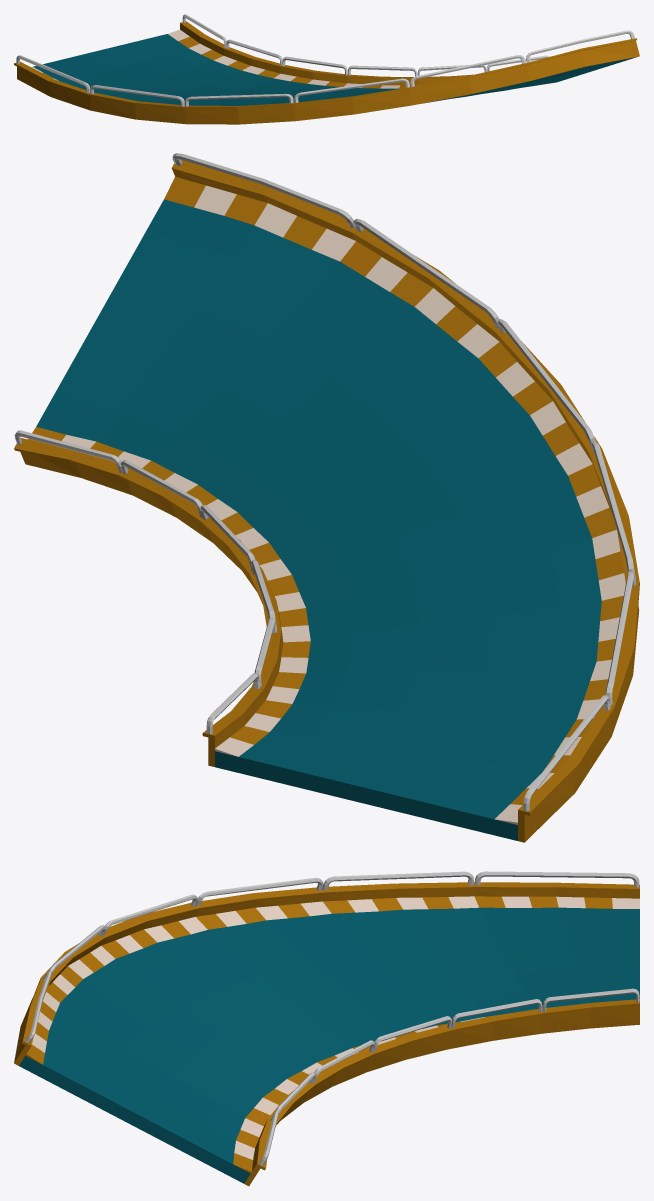
Rendered from curveLeft-90-Banked-30.FBX.
3 views of the same model, one above another, from view 1: azimuth 30°, elevation 25°; view 2: azimuth 150°, elevation 25°; view 3: azimuth 270°, elevation 25° (orthographic). The views are drawn at different scales.
Visible parts, largest first — view 1: wall_r, curveLeft-90-banked-30, wall_l, curbs_l; view 2: curveLeft-90-banked-30, curbs_r, wall_r, wall_l, curbs_l; view 3: curveLeft-90-banked-30, wall_r, wall_l, curbs_r, curbs_l.
Boxes of the visible parts, bbox=[...] form: wall_r: bbox=[14, 30, 639, 124]; curveLeft-90-banked-30: bbox=[33, 34, 636, 105]; wall_l: bbox=[180, 14, 557, 85]; curbs_l: bbox=[168, 29, 418, 88]; curveLeft-90-banked-30: bbox=[36, 199, 601, 840]; curbs_r: bbox=[164, 176, 625, 824]; wall_r: bbox=[171, 153, 639, 842]; wall_l: bbox=[14, 430, 283, 766]; curbs_l: bbox=[28, 427, 310, 756]; curveLeft-90-banked-30: bbox=[19, 907, 639, 1183]; wall_r: bbox=[14, 871, 639, 1065]; wall_l: bbox=[244, 988, 639, 1186]; curbs_r: bbox=[25, 896, 639, 1064]; curbs_l: bbox=[233, 1016, 489, 1173].
Size of what is drawn, in the model's own units: 485 by 129 by 461.
